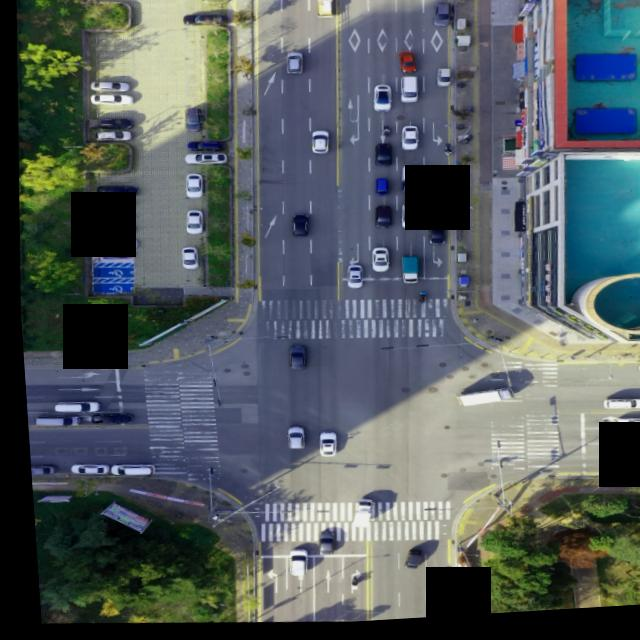car: (93, 183, 140, 200), (104, 463, 150, 479), (26, 412, 73, 427), (48, 400, 94, 415), (87, 115, 132, 130), (84, 410, 127, 425), (89, 209, 128, 225), (280, 548, 301, 577), (396, 79, 417, 107), (595, 403, 637, 417), (88, 92, 130, 106), (88, 195, 130, 209), (87, 80, 128, 94), (93, 235, 133, 249), (182, 153, 222, 167), (88, 222, 131, 235), (396, 208, 417, 234), (311, 434, 332, 460), (181, 108, 202, 134), (369, 88, 389, 115), (63, 463, 101, 477), (282, 347, 302, 373), (181, 174, 201, 200), (90, 127, 127, 141), (281, 212, 302, 236), (311, 537, 331, 562), (394, 550, 416, 572), (306, 134, 326, 158), (397, 131, 417, 155), (181, 211, 201, 235), (287, 216, 307, 240), (431, 6, 451, 30), (96, 249, 130, 263), (186, 141, 222, 154), (365, 251, 384, 275), (280, 428, 299, 452), (307, 533, 326, 557), (423, 224, 442, 248), (191, 13, 226, 26), (284, 53, 303, 76), (609, 421, 640, 435), (370, 146, 388, 170), (368, 208, 387, 230), (340, 266, 358, 289), (176, 249, 195, 270), (397, 54, 415, 76), (24, 464, 49, 477), (434, 72, 450, 92), (369, 181, 384, 201), (635, 371, 640, 381)
medium_truck: (448, 388, 510, 414)
small_truck: (344, 502, 369, 532), (396, 258, 418, 288), (396, 168, 419, 195), (315, 0, 335, 20)
